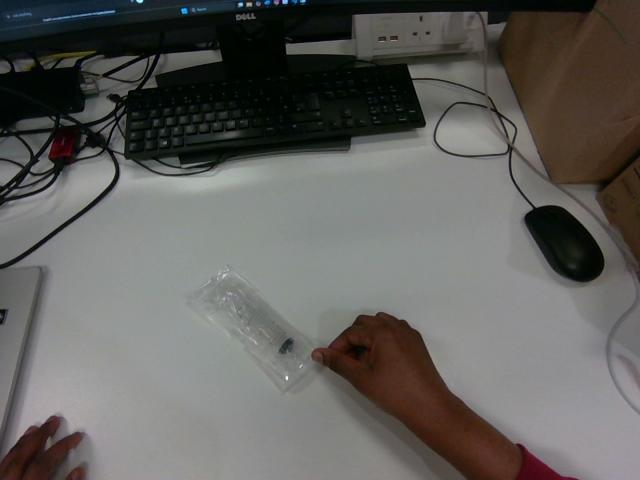syringe: (187, 266, 312, 392)
